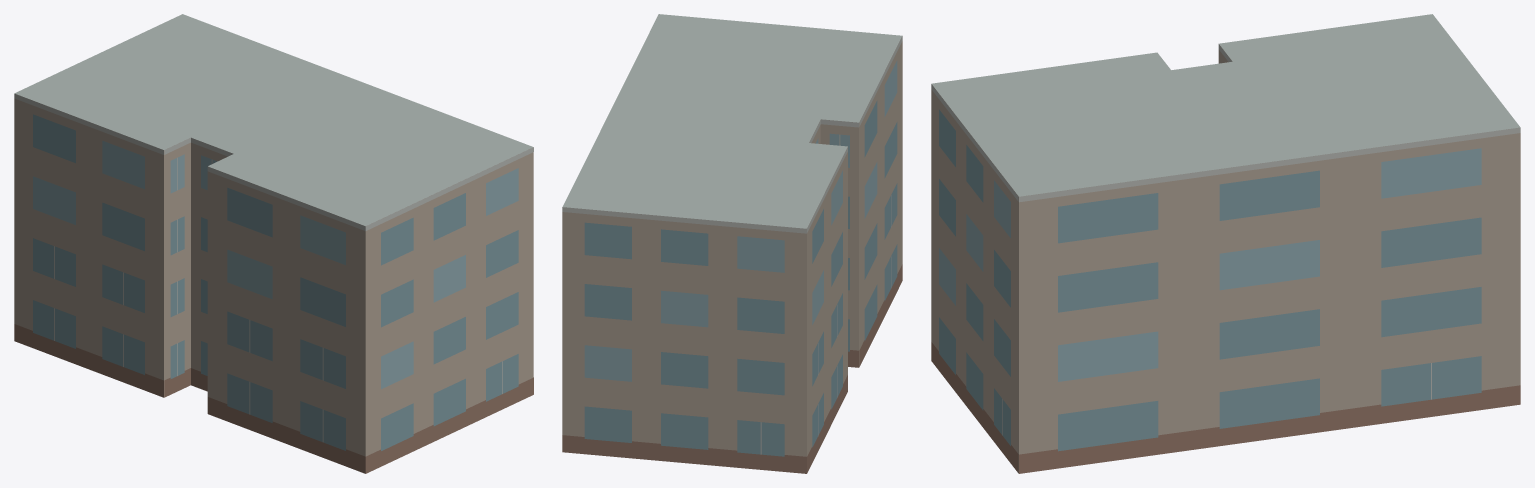
The model's file is residential-d7b0c9fd-db32-4136-9a61-577b3654d68d.glb.
3 views of the same model, side by side, from view 1: azimuth 30°, elevation 25°; view 2: azimuth 150°, elevation 25°; view 3: azimuth 270°, elevation 25° (orthographic). The views are drawn at different scales.
Visible parts, largest first — view 1: residential-d7b0c9fd-db32-4136-9a61-577b3654d68d.tmp; view 2: residential-d7b0c9fd-db32-4136-9a61-577b3654d68d.tmp; view 3: residential-d7b0c9fd-db32-4136-9a61-577b3654d68d.tmp.
Part boxes in pixels (box(x1,y1,x2,y2)): residential-d7b0c9fd-db32-4136-9a61-577b3654d68d.tmp: box(14, 14, 533, 473); residential-d7b0c9fd-db32-4136-9a61-577b3654d68d.tmp: box(562, 14, 902, 473); residential-d7b0c9fd-db32-4136-9a61-577b3654d68d.tmp: box(931, 14, 1520, 473).
Size of the model in its own units: 17.26 by 12.2 by 23.52.
